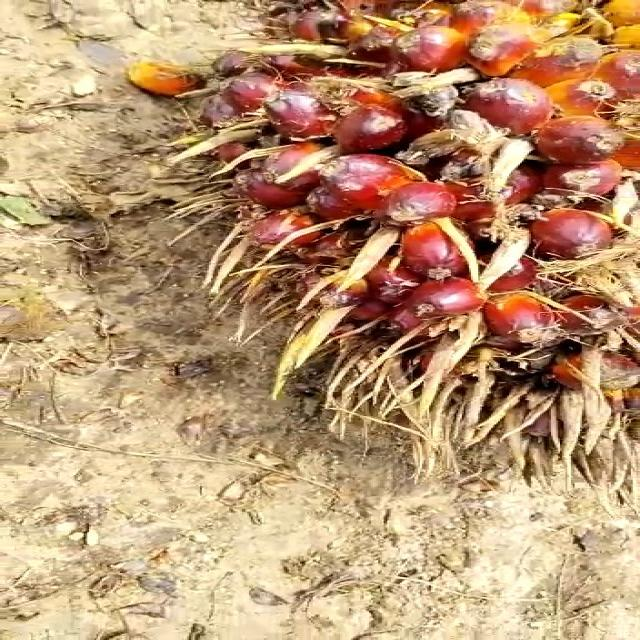palm oil: (136, 0, 640, 484)
